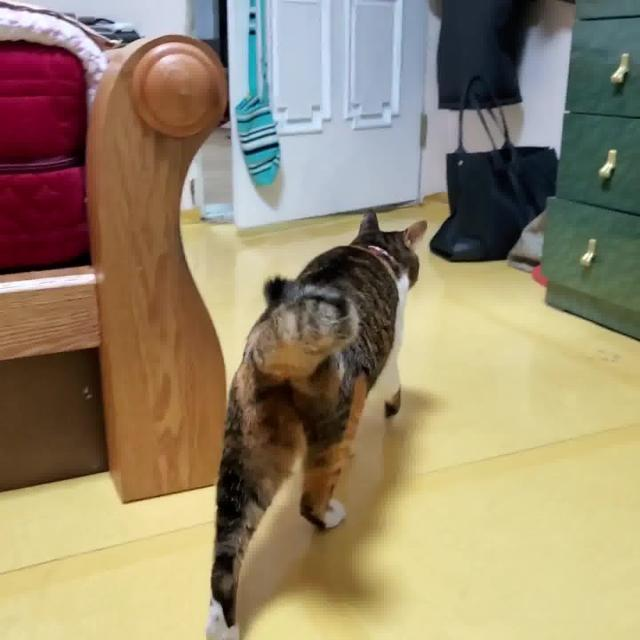cat: (205, 206, 439, 640)
